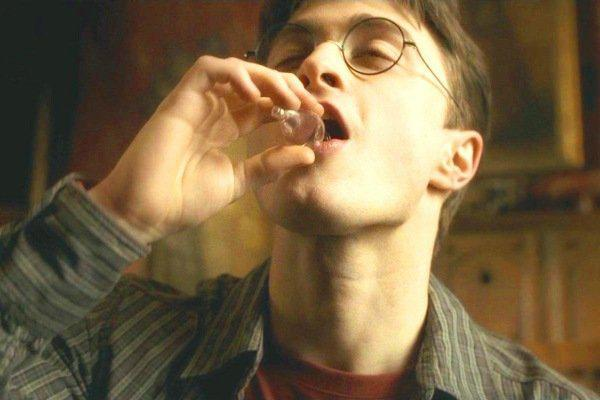Drunk: (265, 5, 426, 220)
